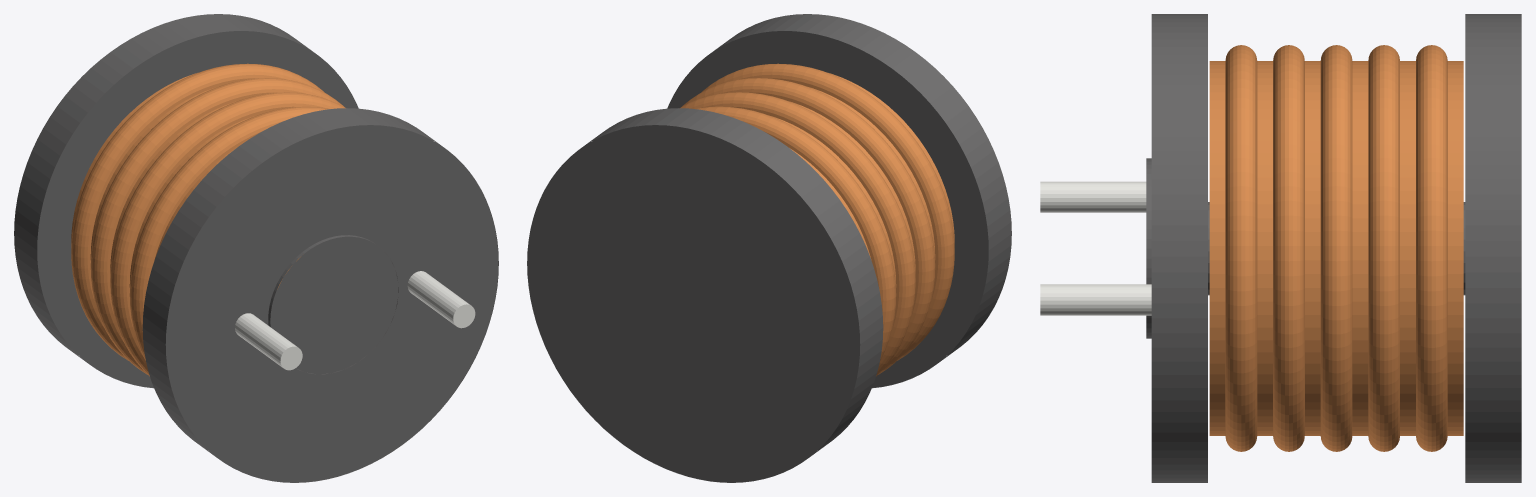
File: L_Radial_D13.5mm_P7.00mm_Fastron_09HCP.glb
3 views of the same model, side by side, from view 1: azimuth 30°, elevation 25°; view 2: azimuth 150°, elevation 25°; view 3: azimuth 270°, elevation 25° (orthographic). The views are drawn at different scales.
Parts seen in each view (by area): view 1: Shape_IndexedFaceSet.009, Shape_IndexedFaceSet.024, Shape_IndexedFaceSet.016, Shape_IndexedFaceSet.007, Shape_IndexedFaceSet.025, Shape_IndexedFaceSet.020, Shape_IndexedFaceSet.018, Shape_IndexedFaceSet.010, Shape_IndexedFaceSet.006, Shape_IndexedFaceSet.013, Shape_IndexedFaceSet.011, Shape_IndexedFaceSet.014 (+4 smaller); view 2: Shape_IndexedFaceSet.026, Shape_IndexedFaceSet.005, Shape_IndexedFaceSet.025, Shape_IndexedFaceSet.007, Shape_IndexedFaceSet.002, Shape_IndexedFaceSet.006, Shape_IndexedFaceSet.010, Shape_IndexedFaceSet.018, Shape_IndexedFaceSet.008, Shape_IndexedFaceSet.004, Shape_IndexedFaceSet, Shape_IndexedFaceSet.014; view 3: Shape_IndexedFaceSet.007, Shape_IndexedFaceSet.025, Shape_IndexedFaceSet.010, Shape_IndexedFaceSet.002, Shape_IndexedFaceSet.006, Shape_IndexedFaceSet.018, Shape_IndexedFaceSet.020, Shape_IndexedFaceSet, Shape_IndexedFaceSet.014, Shape_IndexedFaceSet.021, Shape_IndexedFaceSet.004, Shape_IndexedFaceSet.008 (+4 smaller).
Boxes of the visible parts, x1,y1,x2,y2 form: Shape_IndexedFaceSet.009: (165,125,498,482); Shape_IndexedFaceSet.024: (37,31,358,387); Shape_IndexedFaceSet.016: (270,237,398,374); Shape_IndexedFaceSet.007: (142,108,498,482); Shape_IndexedFaceSet.025: (14,14,358,388); Shape_IndexedFaceSet.020: (71,63,324,360); Shape_IndexedFaceSet.018: (90,78,343,374); Shape_IndexedFaceSet.010: (110,92,345,376); Shape_IndexedFaceSet.006: (129,106,330,360); Shape_IndexedFaceSet.013: (407,271,469,325); Shape_IndexedFaceSet.011: (235,313,296,367); Shape_IndexedFaceSet.014: (110,101,235,273); Shape_IndexedFaceSet.026: (527,125,860,482); Shape_IndexedFaceSet.005: (667,31,988,387); Shape_IndexedFaceSet.025: (527,108,883,482); Shape_IndexedFaceSet.007: (667,14,1011,388); Shape_IndexedFaceSet.002: (701,63,954,360); Shape_IndexedFaceSet.006: (682,78,935,374); Shape_IndexedFaceSet.010: (680,92,915,376); Shape_IndexedFaceSet.018: (695,106,896,360); Shape_IndexedFaceSet.008: (790,101,915,273); Shape_IndexedFaceSet.004: (808,87,935,259); Shape_IndexedFaceSet: (829,73,954,243); Shape_IndexedFaceSet.014: (771,116,896,287); Shape_IndexedFaceSet.007: (1151,14,1207,482); Shape_IndexedFaceSet.025: (1465,14,1521,482); Shape_IndexedFaceSet.010: (1320,45,1352,451); Shape_IndexedFaceSet.002: (1225,45,1257,451); Shape_IndexedFaceSet.006: (1273,45,1304,451); Shape_IndexedFaceSet.018: (1368,45,1399,451); Shape_IndexedFaceSet.020: (1416,45,1447,451); Shape_IndexedFaceSet: (1209,61,1225,435); Shape_IndexedFaceSet.014: (1352,61,1368,435); Shape_IndexedFaceSet.021: (1447,61,1463,435); Shape_IndexedFaceSet.004: (1257,61,1272,435); Shape_IndexedFaceSet.008: (1305,61,1320,435).
Bounding box in the file's own units: 5.31 × 5.31 × 5.45.
